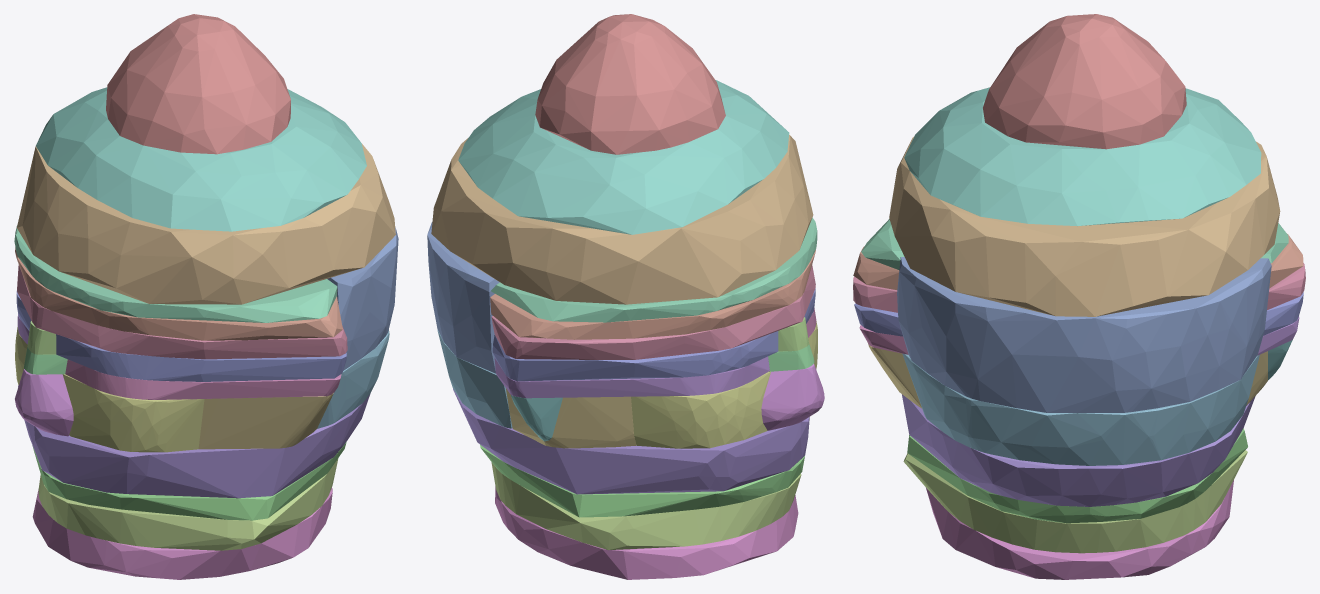
Rendered from buddha_head_hulls.glb.
3 views of the same model, side by side, from view 1: azimuth 30°, elevation 25°; view 2: azimuth 150°, elevation 25°; view 3: azimuth 270°, elevation 25° (orthographic). The views are drawn at different scales.
Visible parts, largest first — view 1: geometry_0; view 2: geometry_0; view 3: geometry_0.
Boxes of the visible parts, left/top/right/bottom form: geometry_0: left=14, top=14, right=398, bottom=579; geometry_0: left=427, top=14, right=824, bottom=579; geometry_0: left=853, top=14, right=1305, bottom=579.
Size of the model in its own units: 0.1526 by 0.2015 by 0.1619.
